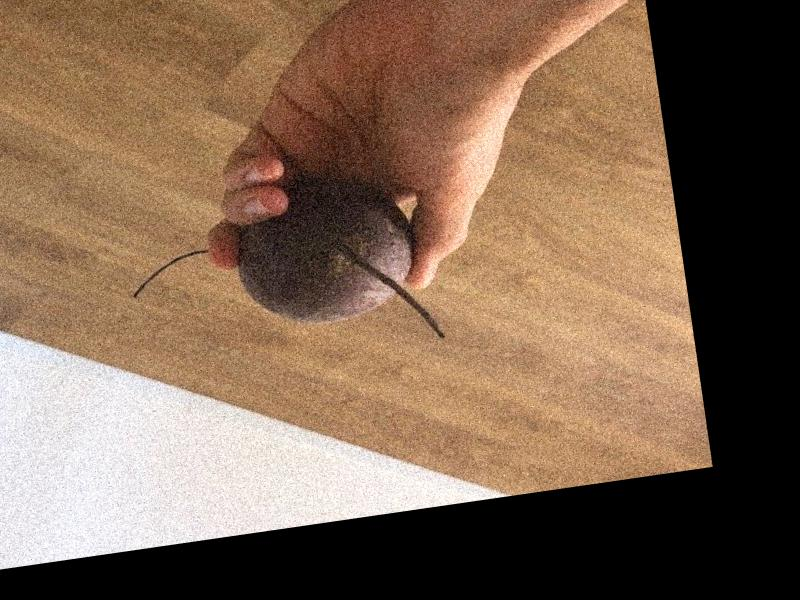Beet: (119, 167, 443, 380)
